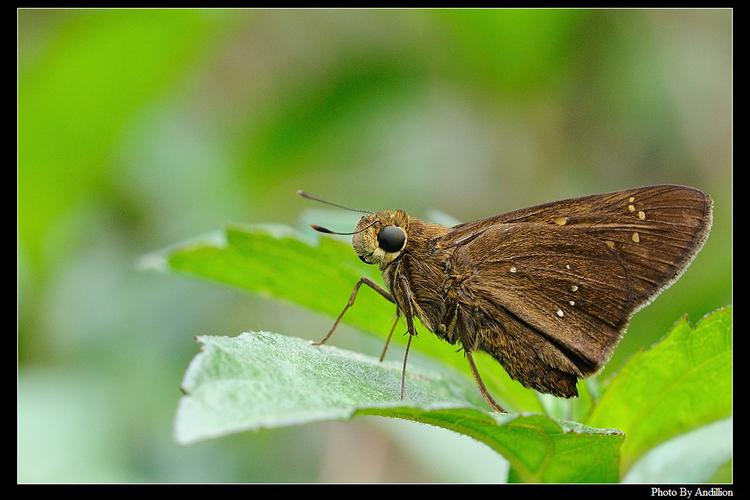Hesperiidae: (290, 183, 717, 414)
